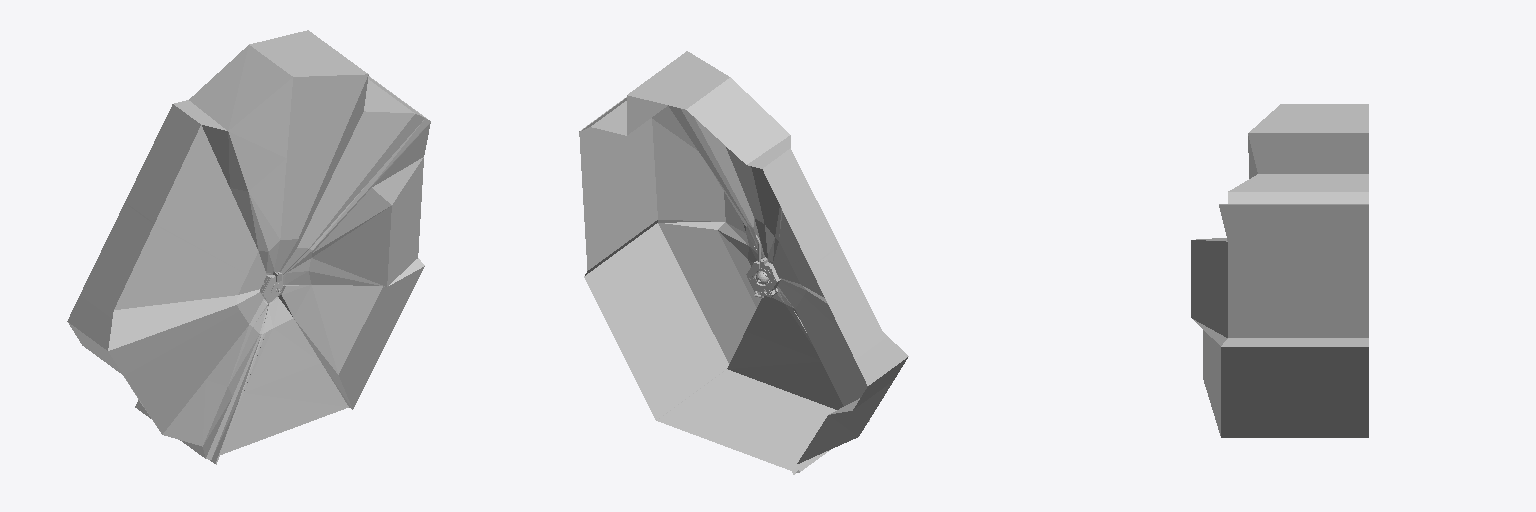
File: final_0003_dec.obj
The picture shows the model from 3 angles: view 1: azimuth 30°, elevation 25°; view 2: azimuth 150°, elevation 25°; view 3: azimuth 270°, elevation 25°; orthographic projection.
Visible parts, largest first — view 1: Object.062_Brep_019f3785-9111-4e60-9592-9edfd0a38bc6.053; view 2: Object.062_Brep_019f3785-9111-4e60-9592-9edfd0a38bc6.053; view 3: Object.062_Brep_019f3785-9111-4e60-9592-9edfd0a38bc6.053.
Boxes of the visible parts, <box> form: Object.062_Brep_019f3785-9111-4e60-9592-9edfd0a38bc6.053: <box>67,30,430,464</box>; Object.062_Brep_019f3785-9111-4e60-9592-9edfd0a38bc6.053: <box>579,51,908,474</box>; Object.062_Brep_019f3785-9111-4e60-9592-9edfd0a38bc6.053: <box>1191,104,1368,437</box>.
Size of the model in its own units: 6554 by 7364 by 3496.